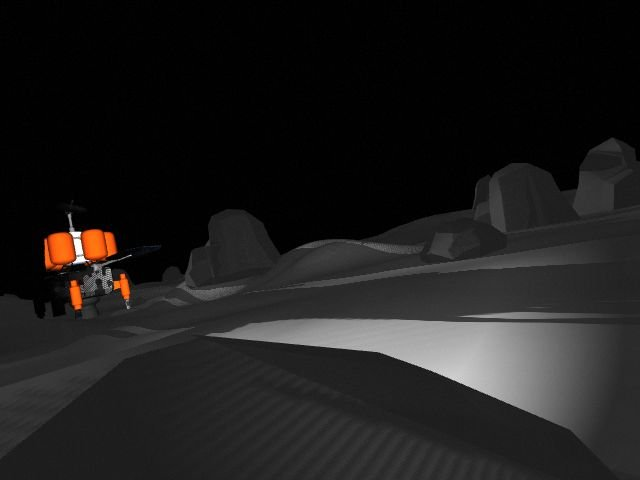homebase: (7, 193, 164, 321)
